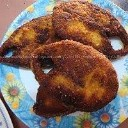seerfish: (29, 41, 118, 114), (55, 1, 128, 57), (1, 15, 56, 68)
